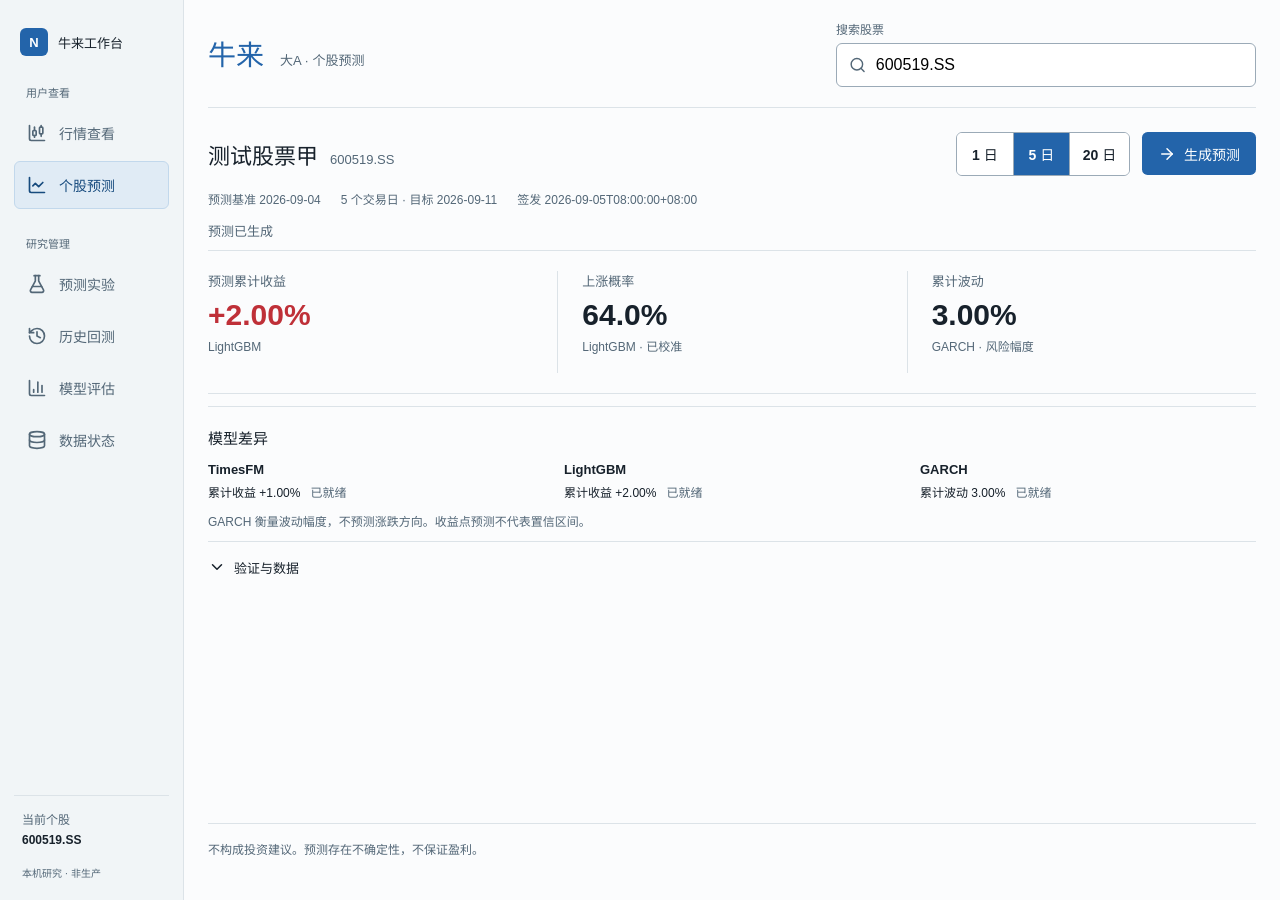
Test: single-stock prediction workspace at the HTTP boundary › reads the default stock without submitting, switches horizons locally, and leaves v1 unmounted
The width and height of the screenshot is (1280, 900).
Expected: the heading "测试股票甲" is shown, [208,138,318,170]
Expected: the text "+2.00%" is shown, [208,298,311,331]
Click the radio button labelled "20 日".
click(1099, 154)  # box [1069,133,1129,175]
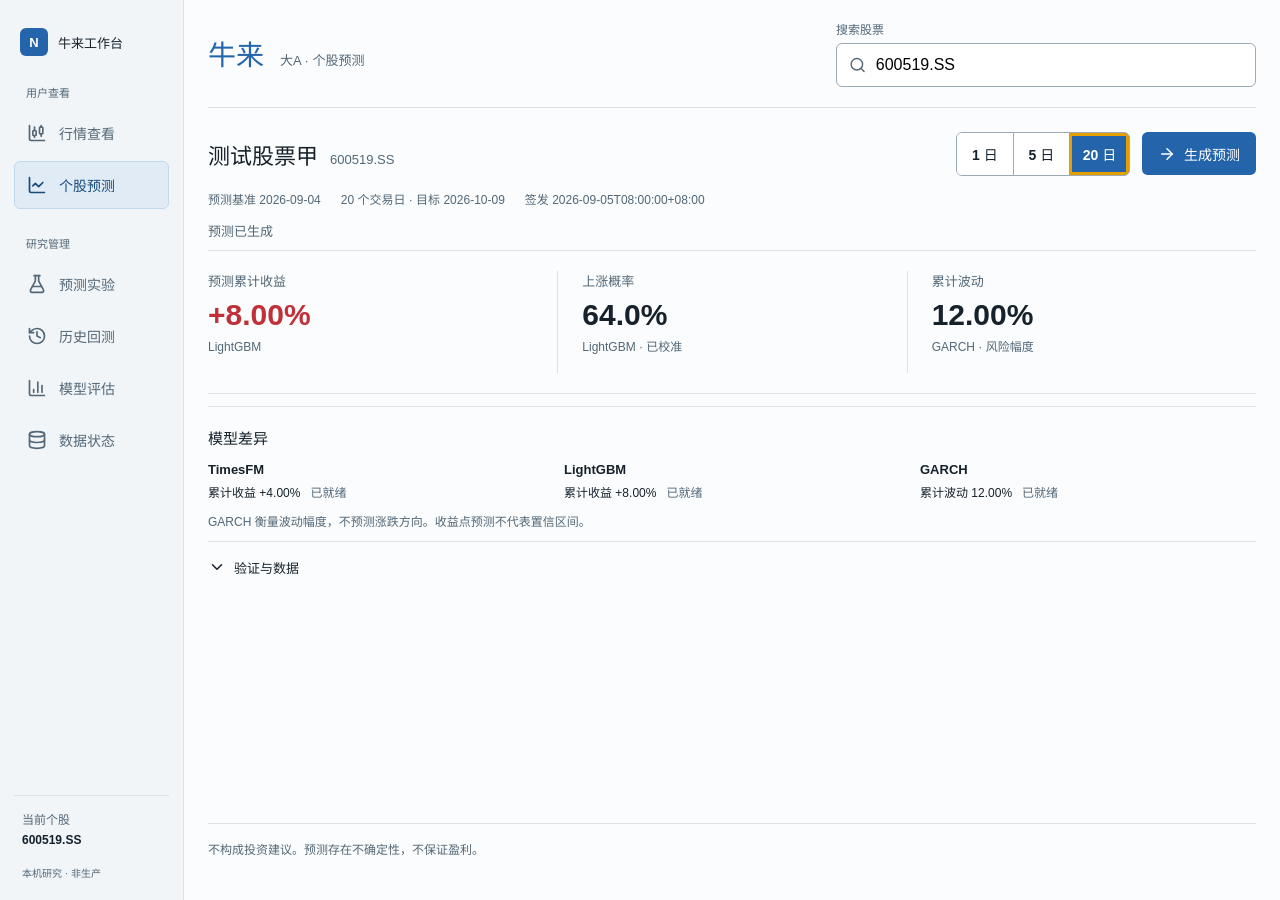
Expected: the text "+8.00%" is shown, [208,298,311,331]
Expected: the text "20 个交易日 · 目标 2026-10-09" is shown, [341,190,505,211]
